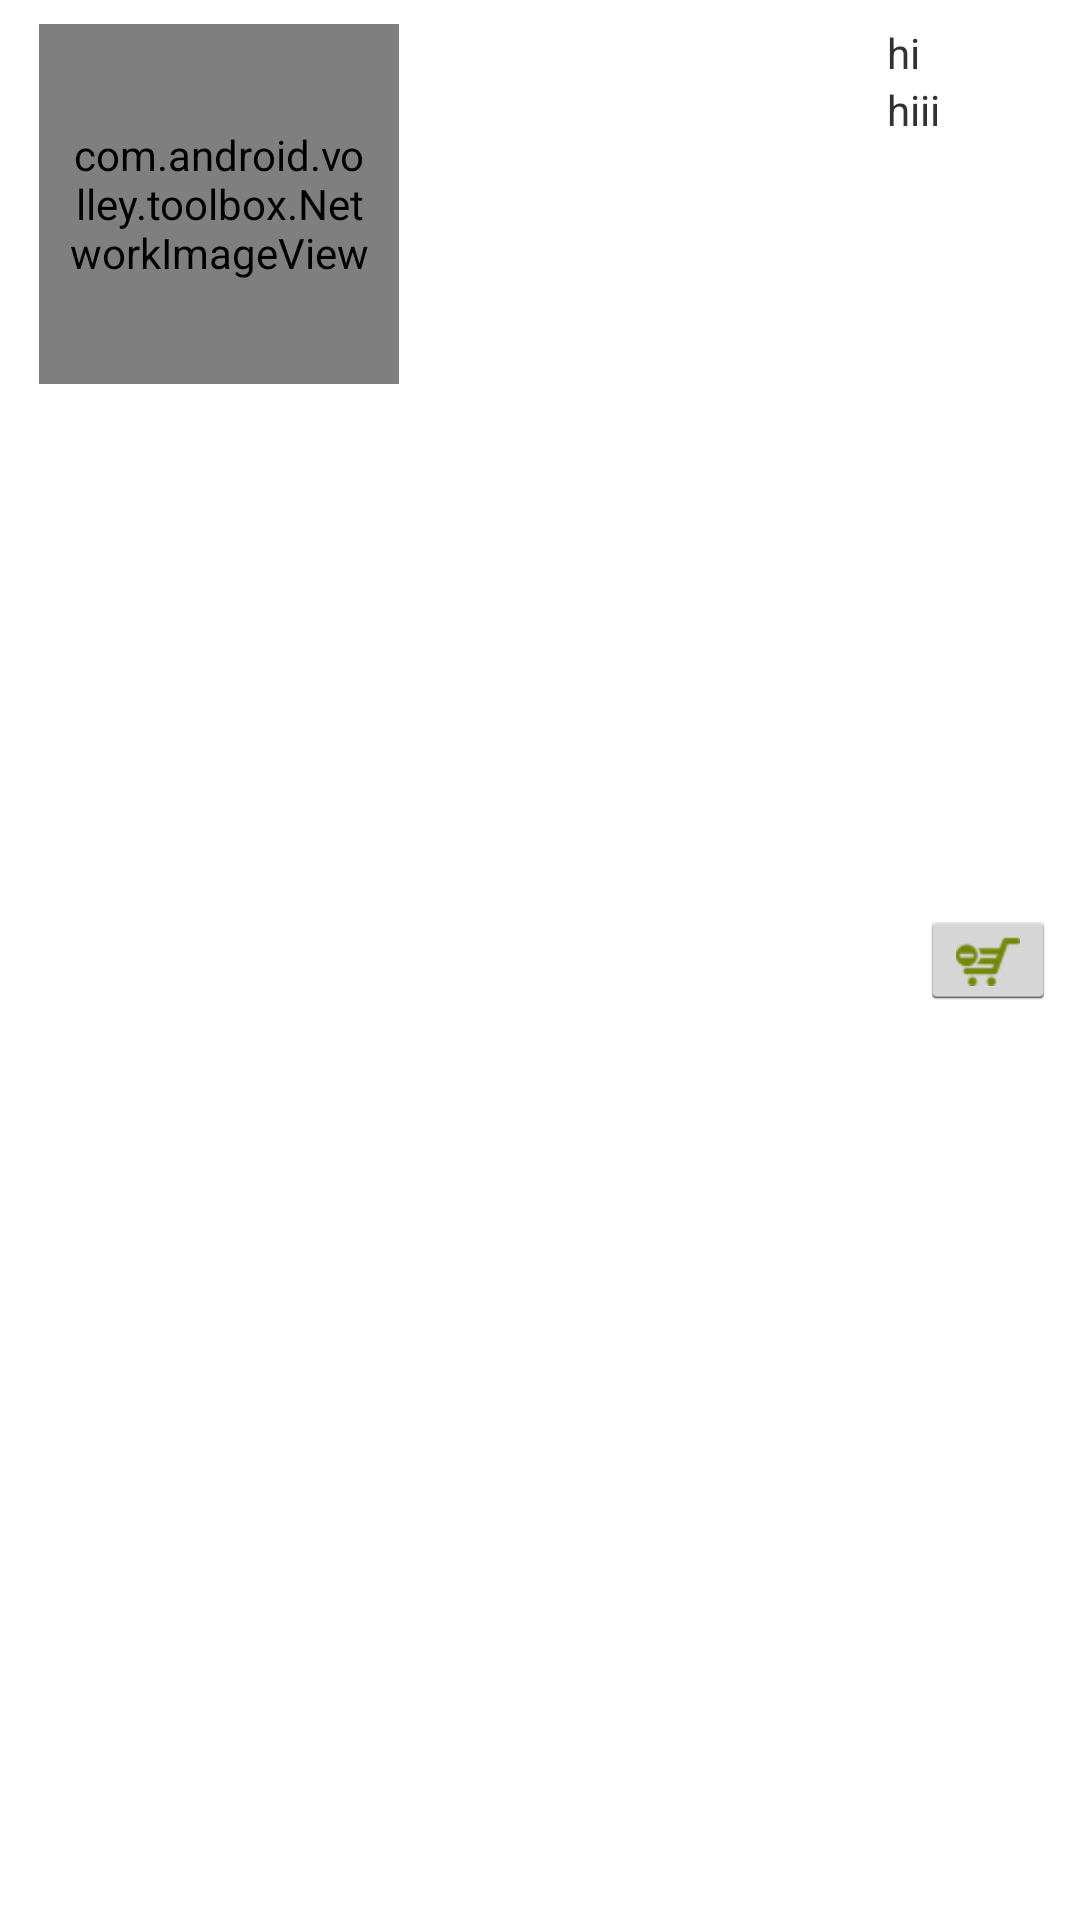

Screen size 1080 x 1920. Icon name, then its box in pixels as (x1, y1, x2, y2):
removecart: (932, 923, 1044, 999)
